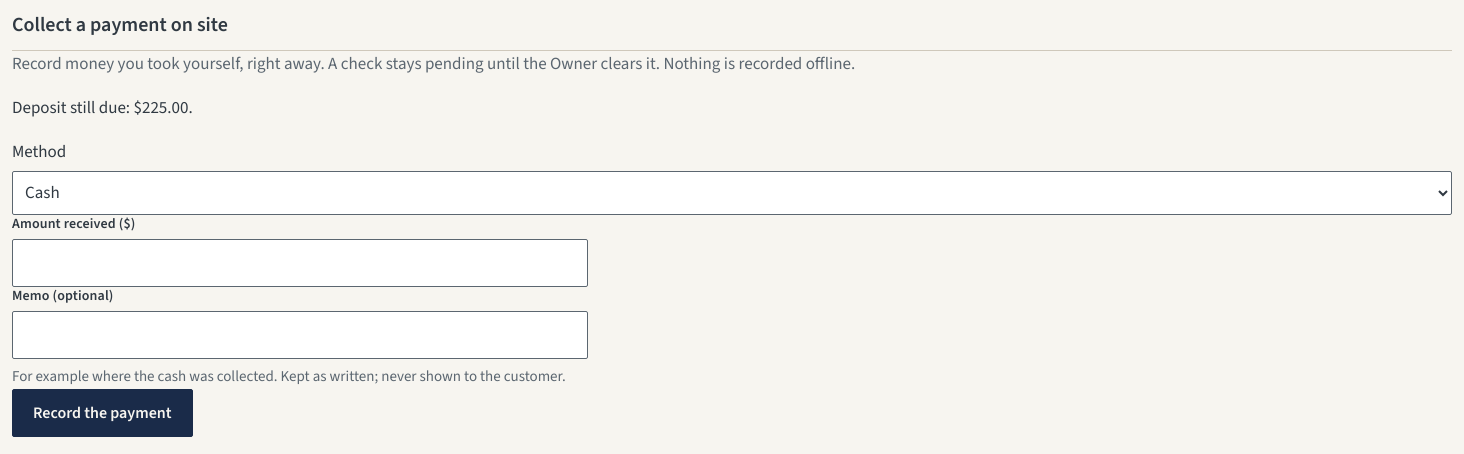
Test: CollectPayment (TSK-0088) › [T62][HH-FIN-11] records the collector’s own cash once and shows it with its receipt
The image size is (1464, 454).
Check: the text with test id "collect-deposit" reads "Deposit still due: $225.00.", box [12,96,193,120]
Type "225.00" into the field labelled "Amount received ($)" at (300, 263), box [12,239,588,287]
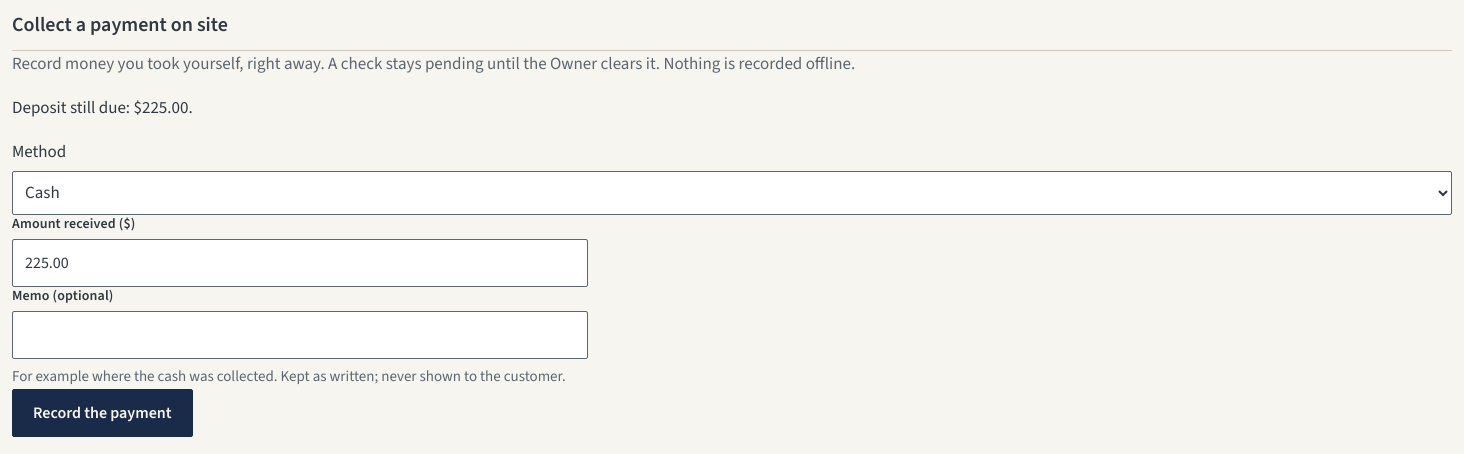
Type " Synthetic: at the door " into the field labelled "Memo (optional)" at (300, 335), box [12,311,588,359]
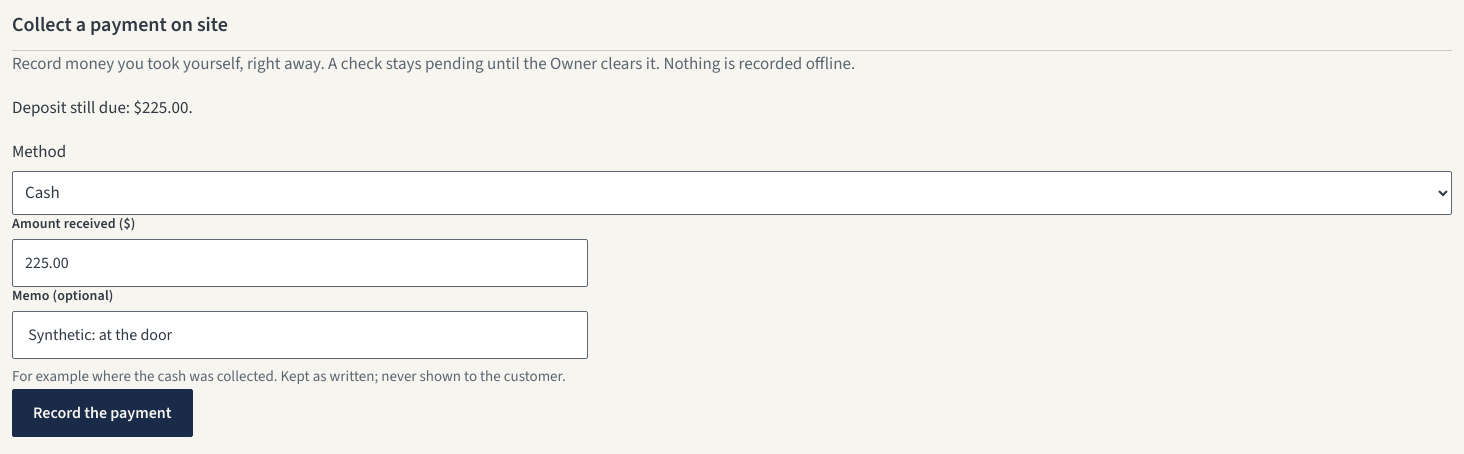
Click the button "Record the payment" at (102, 413), box [12,389,193,437]
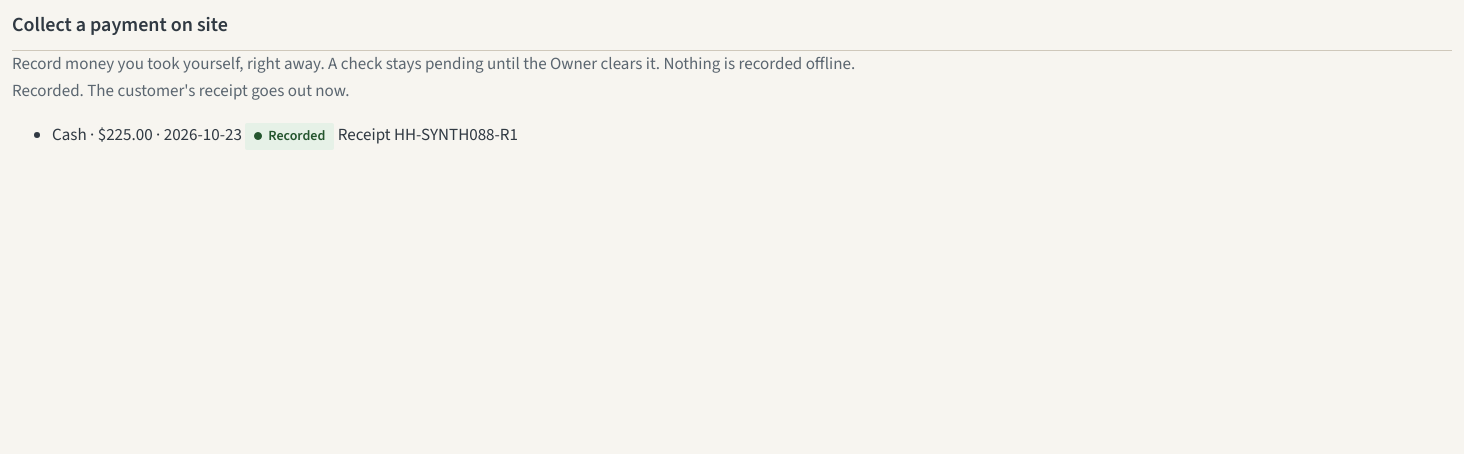
Check: the message with test id "collect-done" reads "Recorded. The customer's receipt goes out now.", box [12,79,350,103]
Check: the list with test id "collect-mine" shows "Receipt HH-SYNTH088-R1", box [334,123,518,147]
Check: the form is gone
